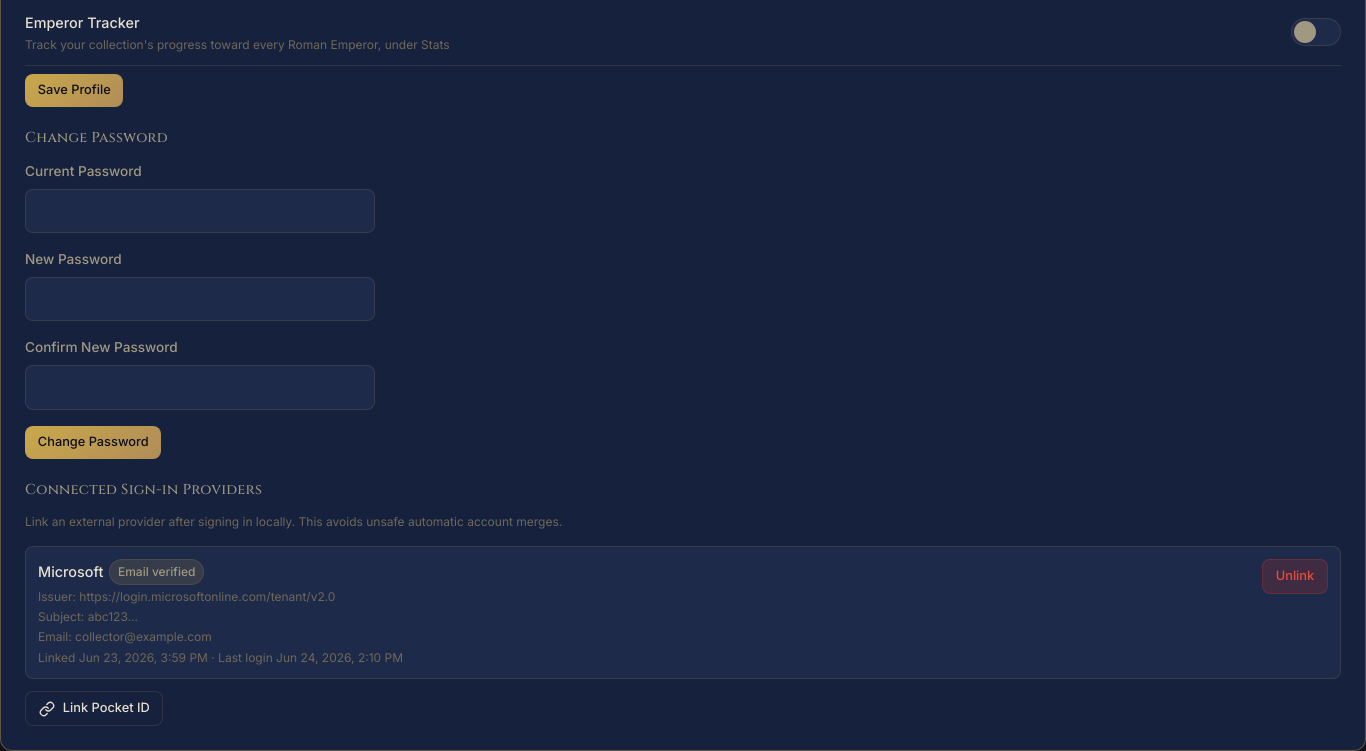
Test: SettingsAccountSection OIDC identities › distinguishes link conflicts from provider configuration failures
(page scrolled)
Click the button "Link Pocket ID" at (94, 709), box left=25, top=691, right=163, bottom=726
(page scrolled)
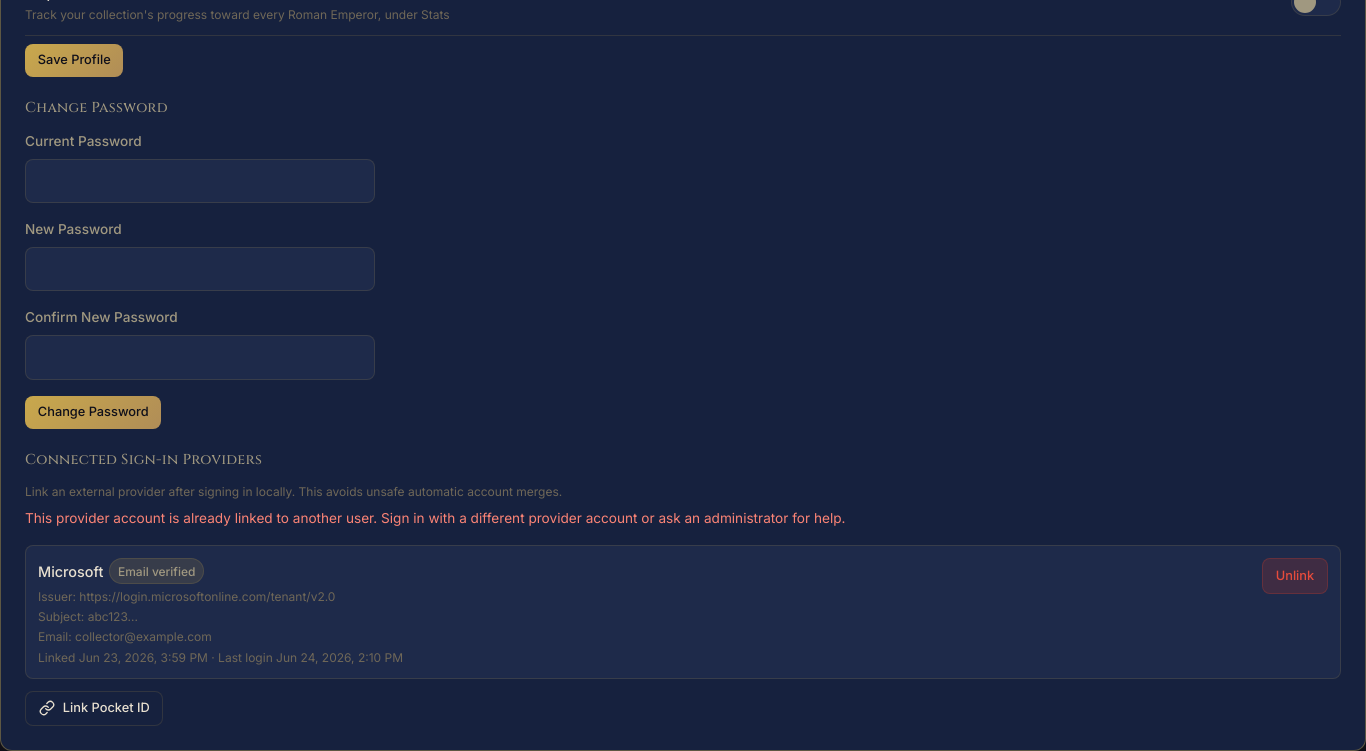
Expected: the text "already linked to another user" is shown, left=25, top=510, right=845, bottom=526
Click the button "Link Pocket ID" at (94, 708), box left=25, top=691, right=163, bottom=726
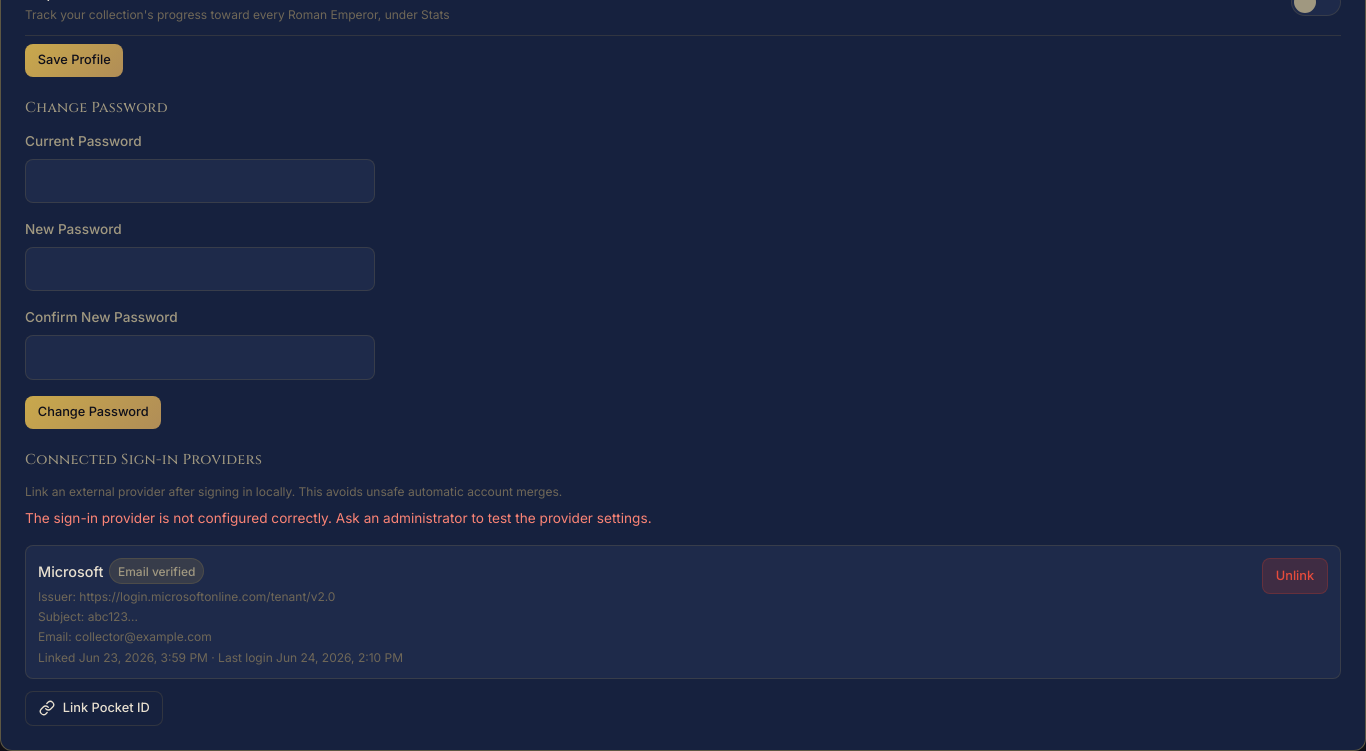
Expected: the text "not configured correctly" is shown, left=25, top=510, right=652, bottom=526
